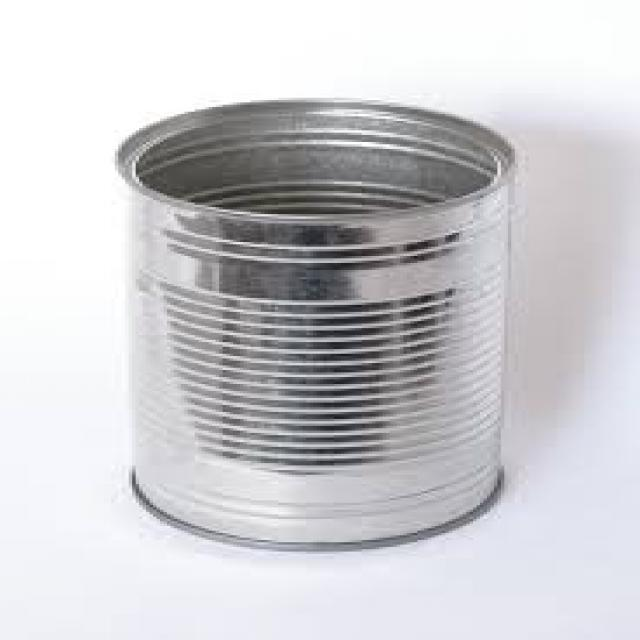metal: (113, 95, 521, 554)
